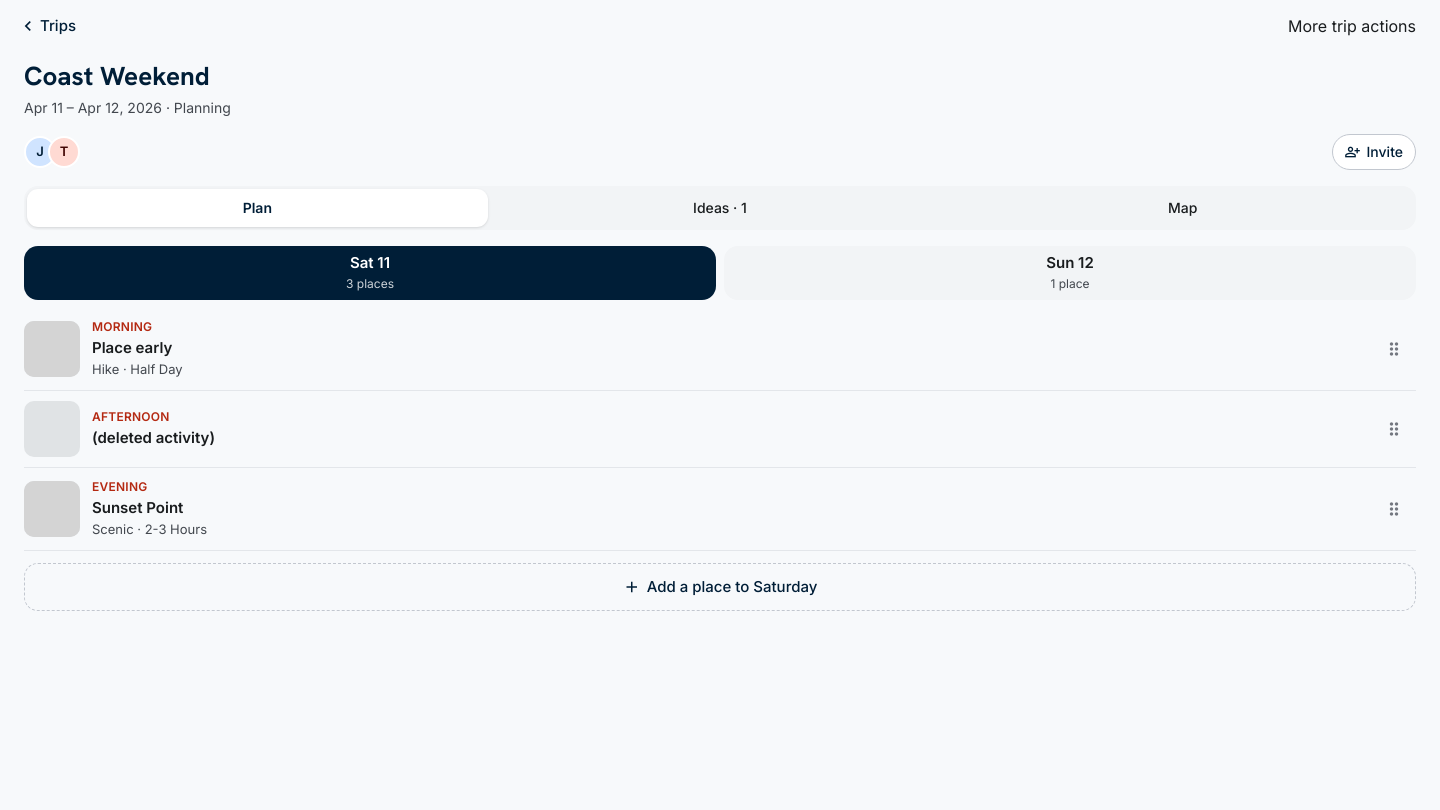
Test: a trip’s page on a phone (#294) › a place’s handle › offers Change day or time…
Click the button named "Move or change Place early" at (1394, 349), box [1372,327,1416,371]
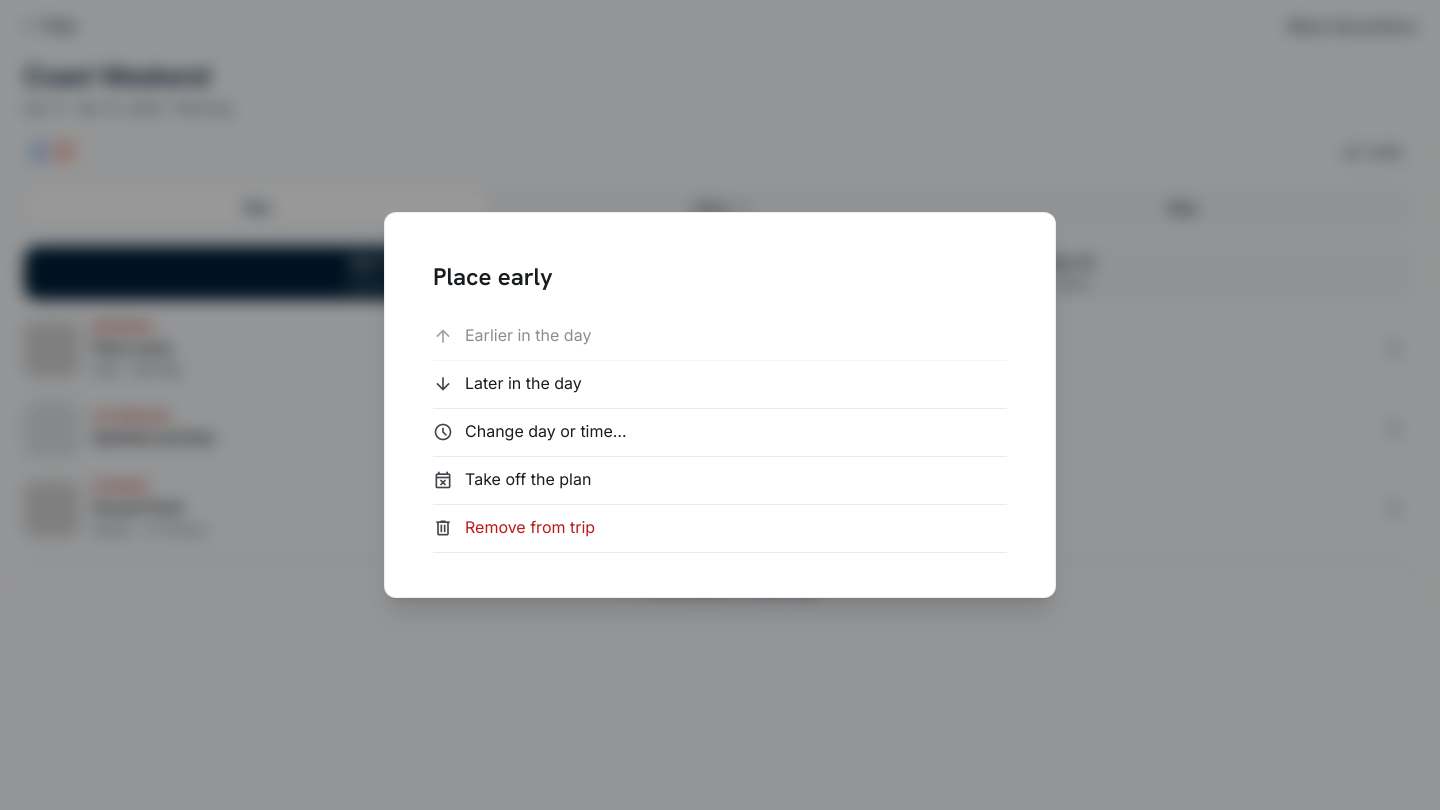
Click the button "Change day or time…" at (546, 431), box [433,409,1007,457]
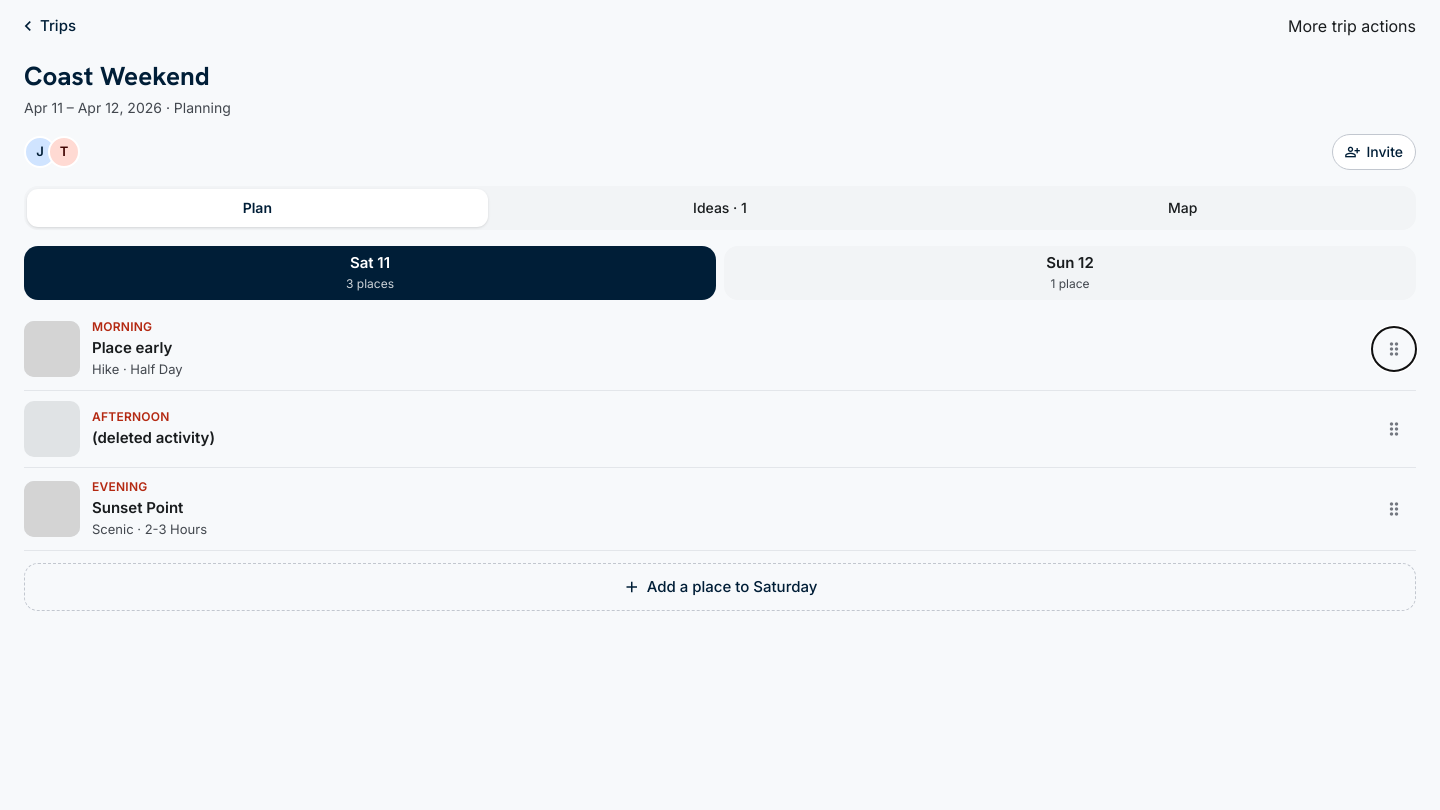
Check: the dialog is gone
